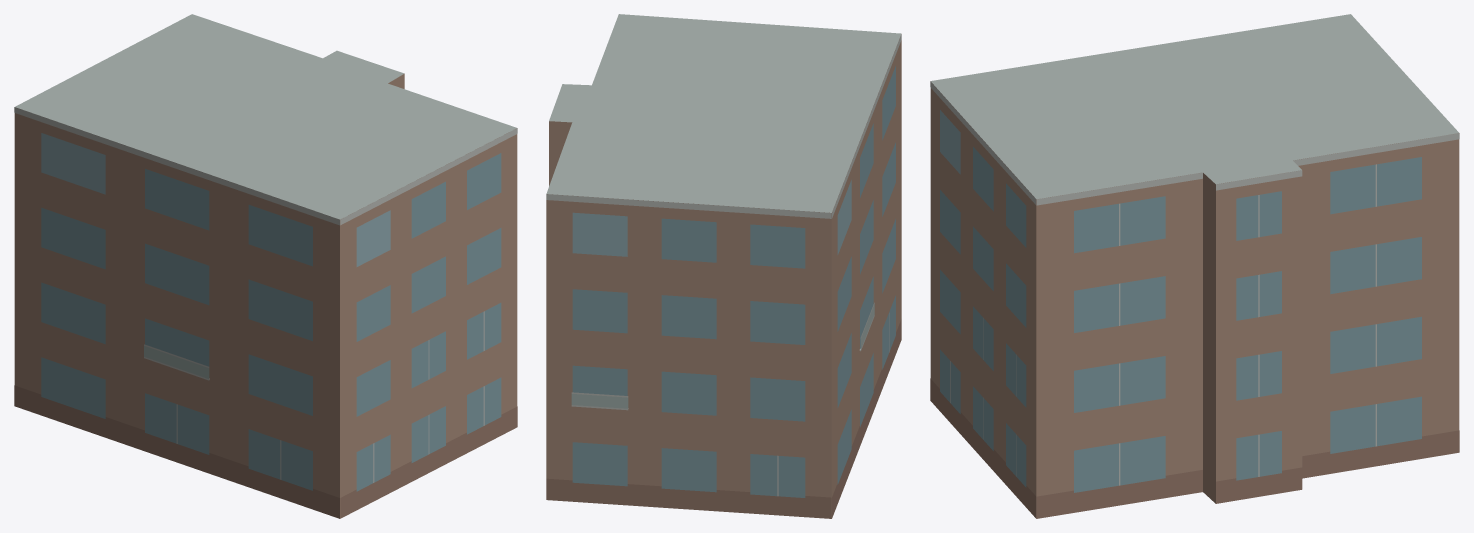
The model's file is survey-upis-32743118.glb.
The picture shows the model from 3 angles, left to right: view 1: azimuth 30°, elevation 25°; view 2: azimuth 150°, elevation 25°; view 3: azimuth 270°, elevation 25°; orthographic projection. The views are drawn at different scales.
Parts seen in each view (by area): view 1: survey-upis-32743118.tmp; view 2: survey-upis-32743118.tmp; view 3: survey-upis-32743118.tmp.
Boxes of the visible parts, x1=… form: survey-upis-32743118.tmp: x1=14, y1=14, x2=517, y2=518; survey-upis-32743118.tmp: x1=546, y1=14, x2=901, y2=518; survey-upis-32743118.tmp: x1=930, y1=14, x2=1459, y2=518.
Bounding box in the file's own units: 15.43 × 12.4 × 18.61.
